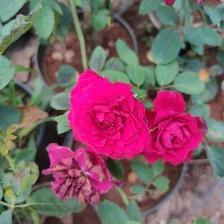rose: (69, 67, 152, 161), (144, 86, 208, 162), (41, 136, 109, 201)
